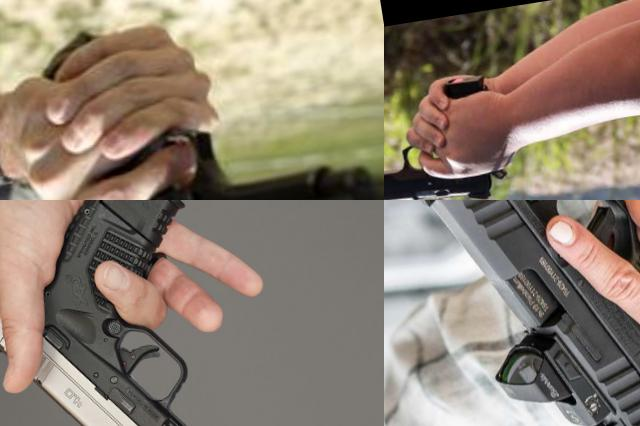handgun: (25, 0, 384, 200), (0, 200, 247, 426), (400, 200, 640, 426), (384, 66, 512, 200)
